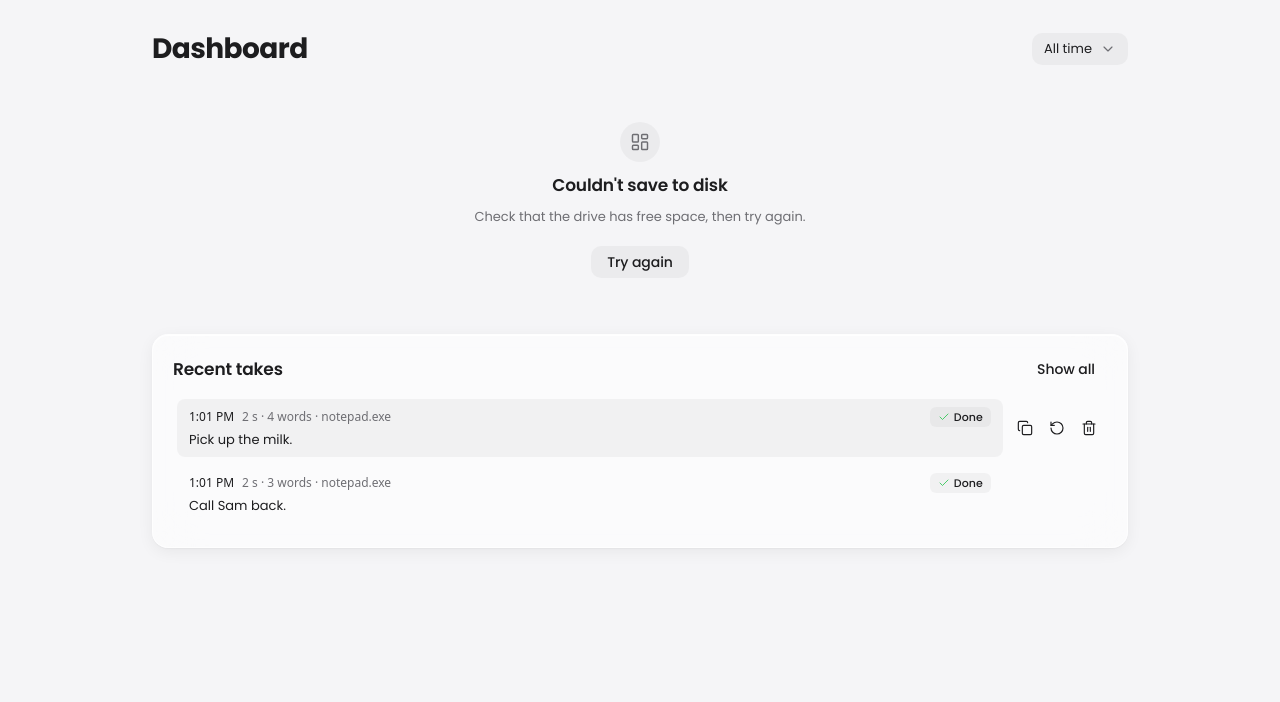
Test case: DashboardPage › offers a retry when the numbers cannot be read
Click the button "Try again" at point(640, 262), box [591, 246, 689, 278]
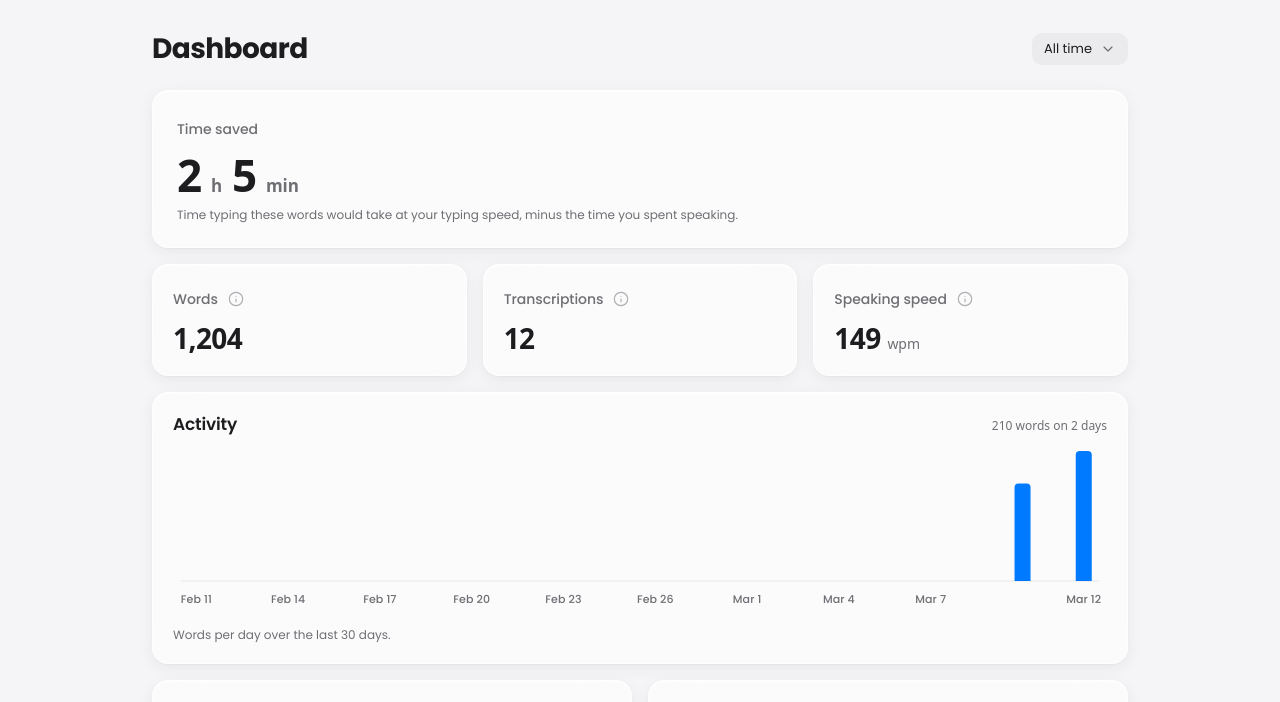
Result: the element "Words" shows "1,204" at [173, 319, 242, 357]
